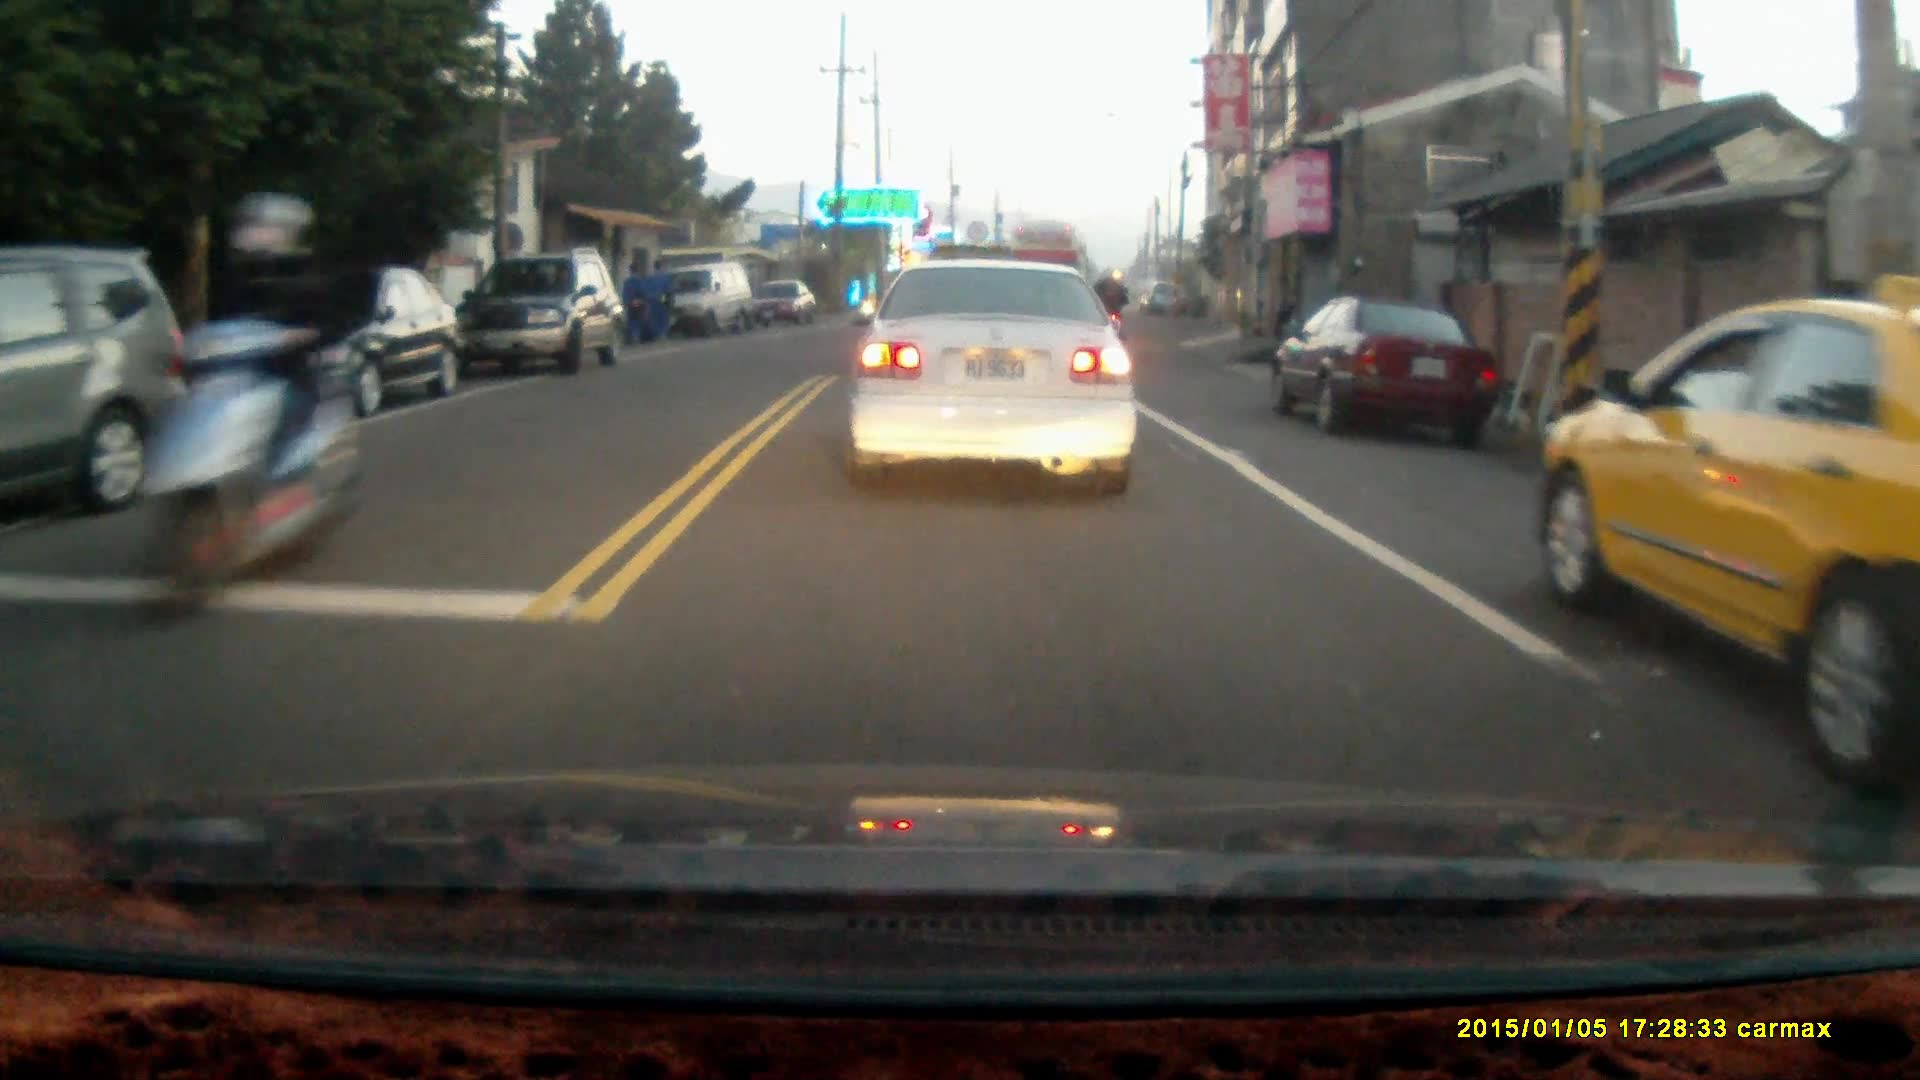pedestrian: (619, 262, 647, 347), (643, 259, 670, 348)
rider: (128, 190, 357, 625), (1085, 266, 1129, 365)
vehicle: (1544, 278, 1920, 795), (852, 261, 1139, 505), (199, 263, 466, 421), (1271, 298, 1503, 445), (448, 251, 626, 379), (647, 266, 756, 340), (735, 280, 817, 329)
